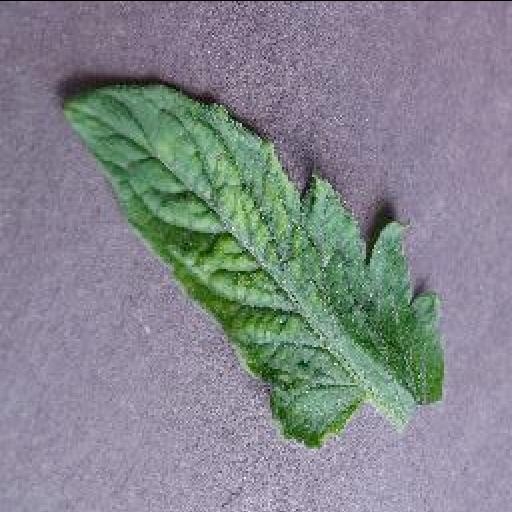Mosaic Virus: (58, 80, 444, 446)
